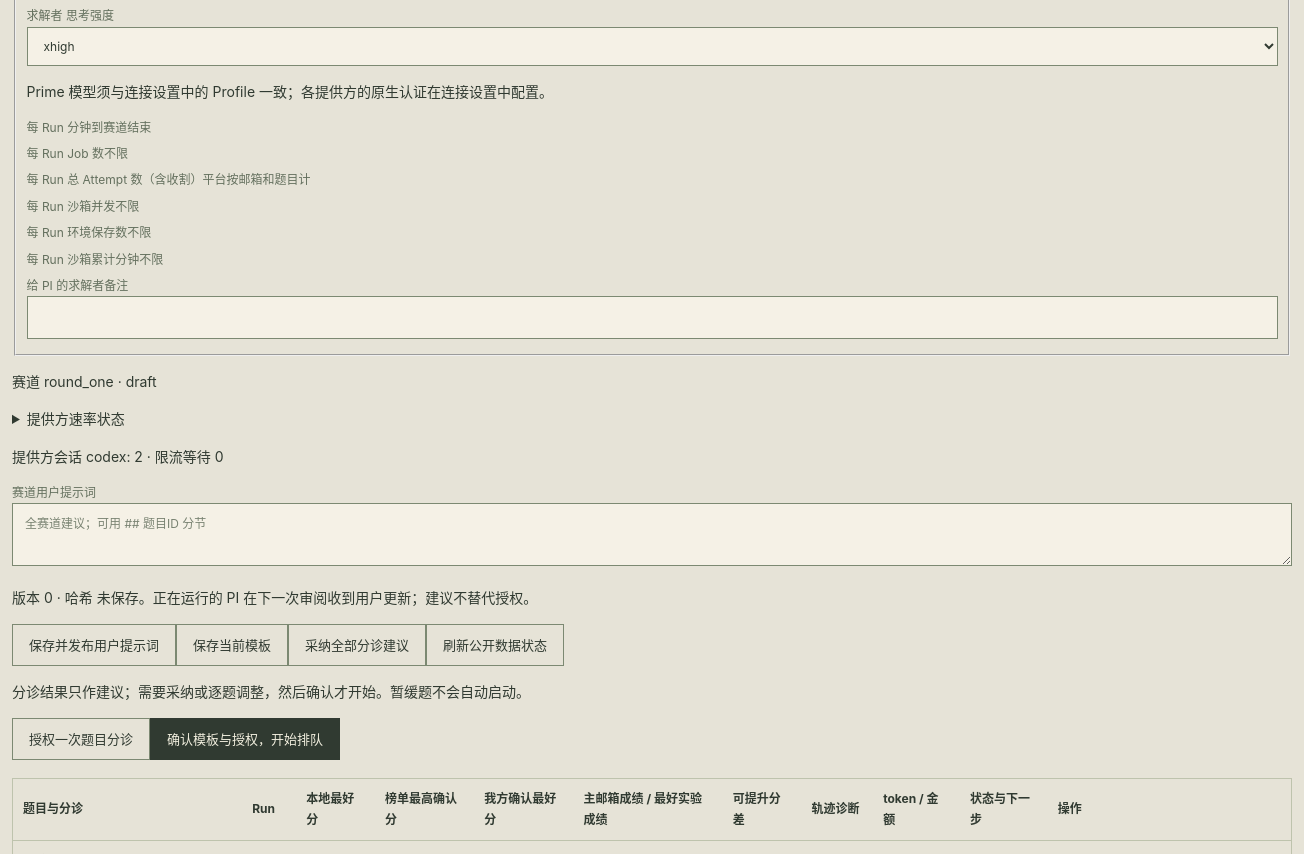
Scenario: shows provider cooldown and native request model throttle facts
(page scrolled)
Step 1. Click the heading "提供方速率状态" → (76, 419), box [27,410,125,427]
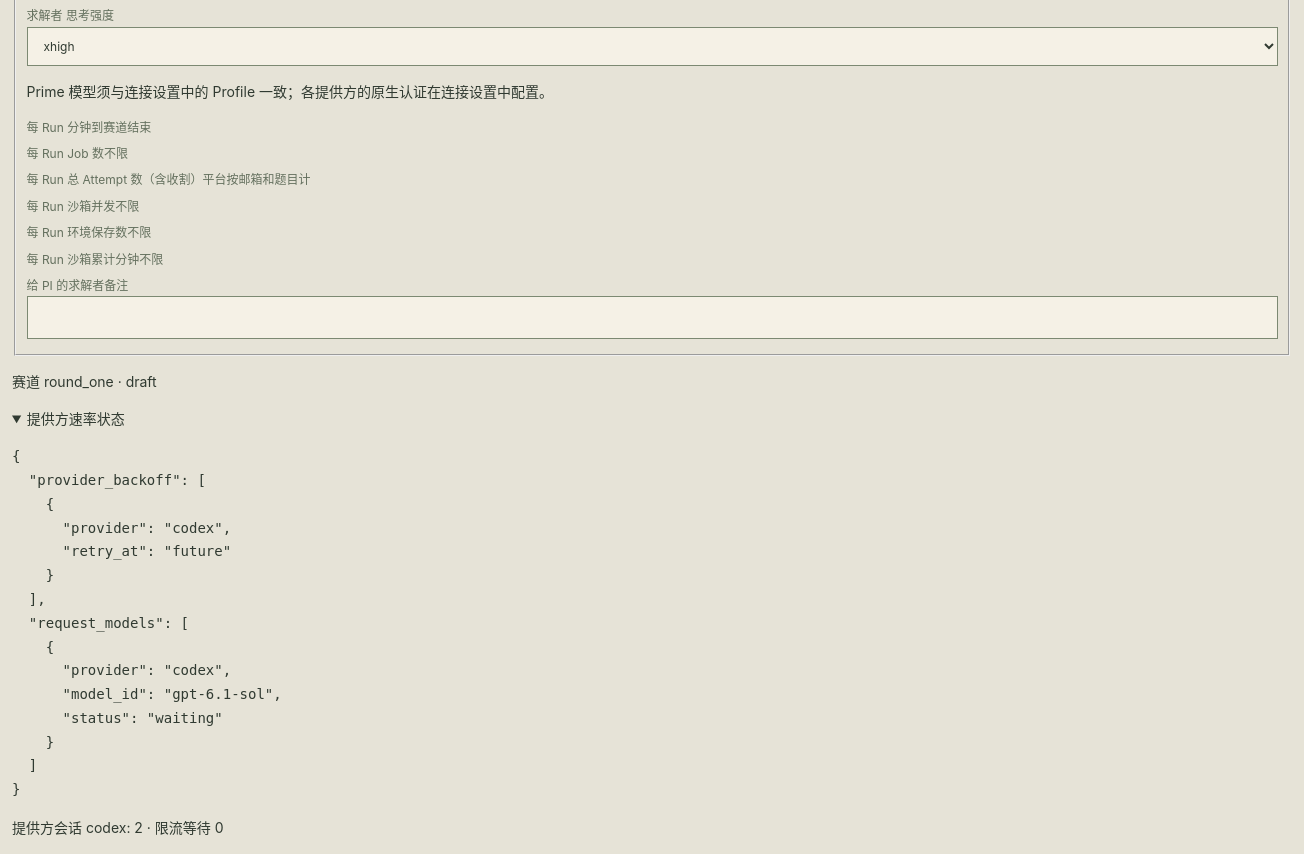
Check: the text "\"model_id\": \"gpt-6.1-sol\"" is shown, box [12,448,282,797]
